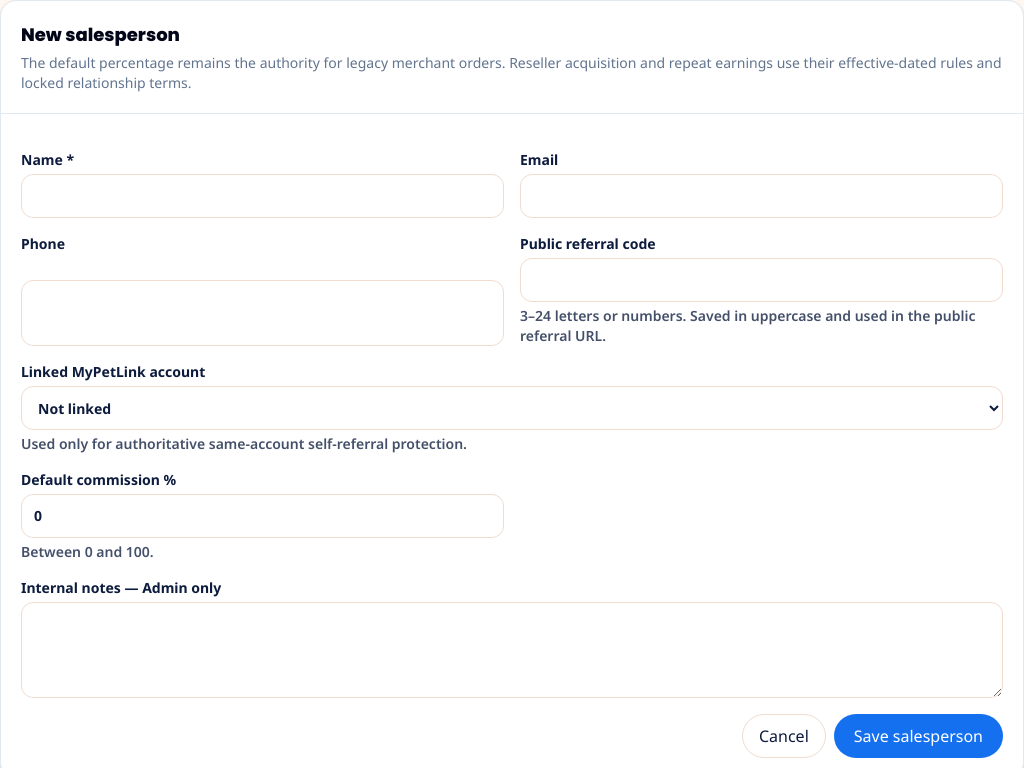
Salesperson editor › connects the message to its own field with a usable id
Type "Pat Lee" into the field labelled "Name *".
click(262, 196); type("Pat Lee")  # box x1=21 y1=174 x2=504 y2=218
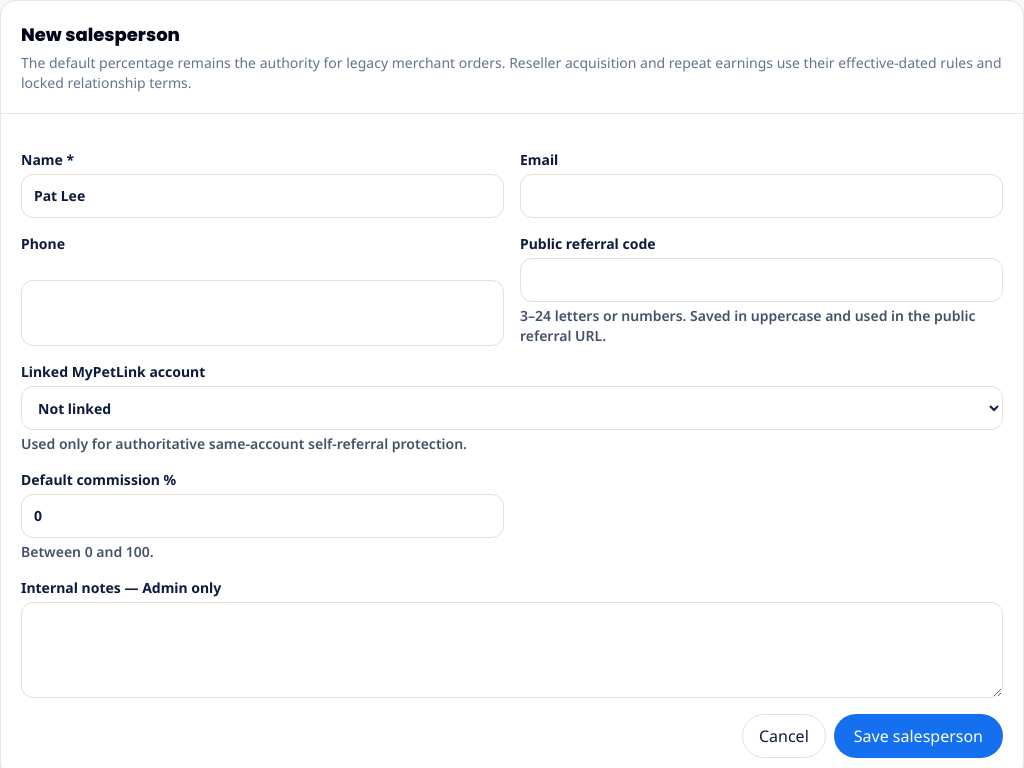
Click the button with test id "save-salesperson".
click(918, 736)  # box x1=834 y1=714 x2=1003 y2=758
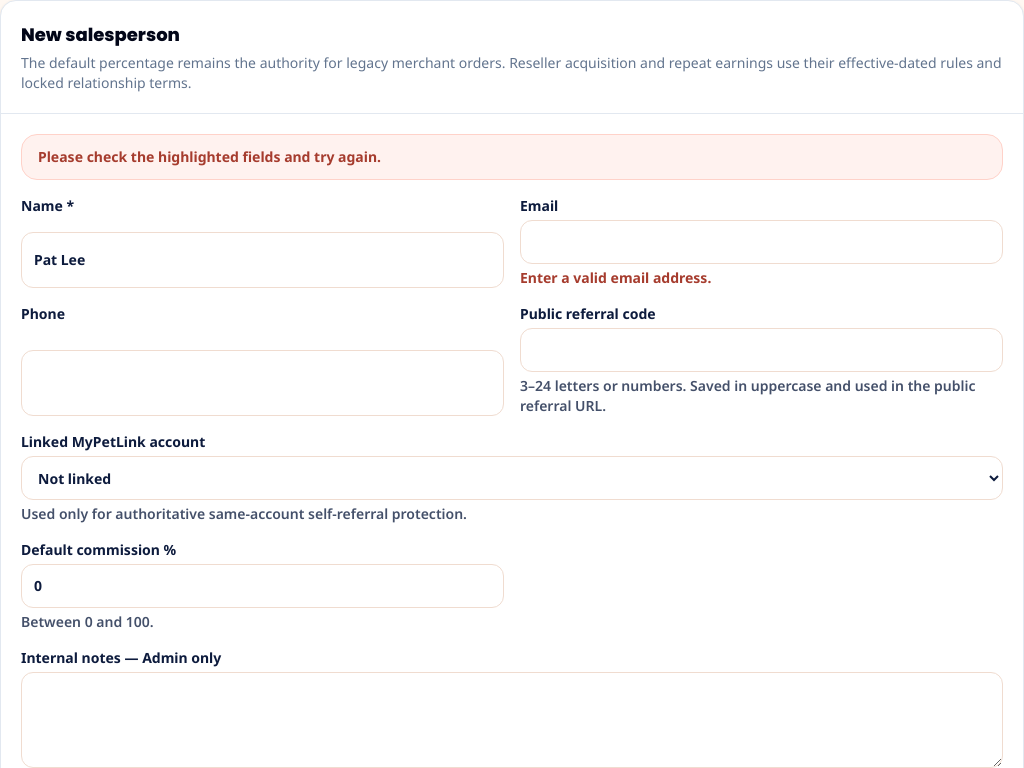
Check: the text "Enter a valid email address." is shown, box x1=520 y1=268 x2=711 y2=287
